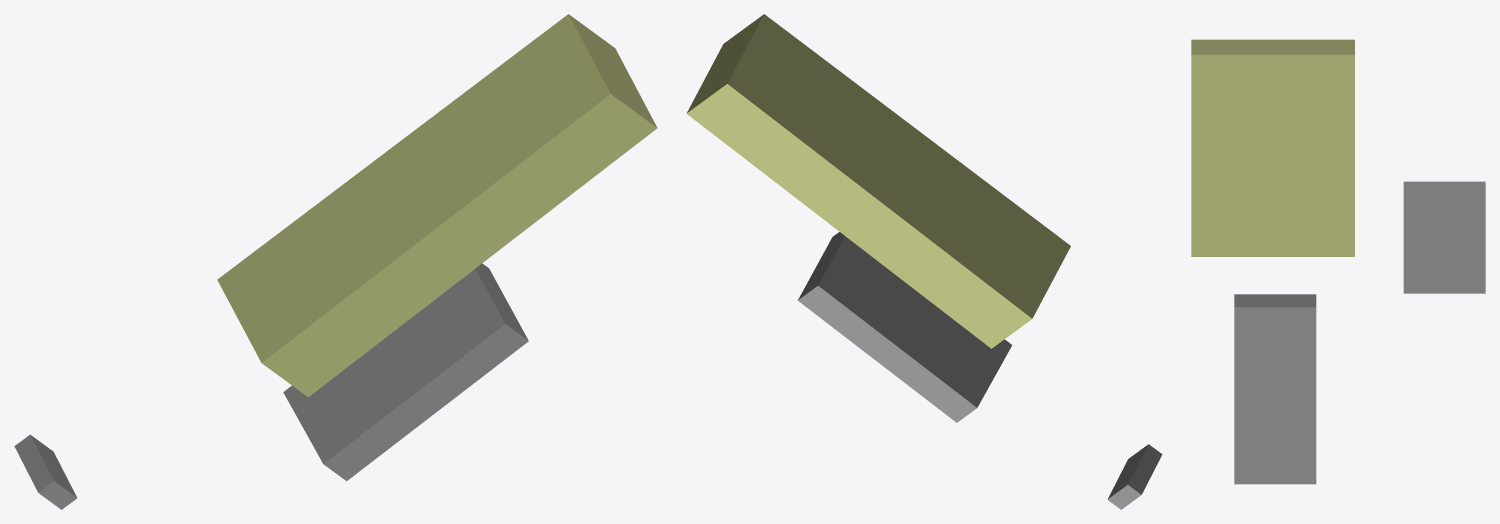
3 renders of one model, left to right at view 1: azimuth 30°, elevation 25°; view 2: azimuth 150°, elevation 25°; view 3: azimuth 270°, elevation 25°, orthographic. The views are drawn at different scales.
Parts seen in each view (by area): view 1: 0_1_1_3_2_1_3_3_2; view 2: 0_1_1_3_2_1_3_3_2; view 3: 0_1_1_3_2_1_3_3_2.
Part boxes in pixels (<box>): 0_1_1_3_2_1_3_3_2: <box>14,14,657,509</box>; 0_1_1_3_2_1_3_3_2: <box>686,14,1162,509</box>; 0_1_1_3_2_1_3_3_2: <box>1191,39,1485,484</box>.
Bounding box in the file's own units: 41.35 × 27.28 × 10.79.
